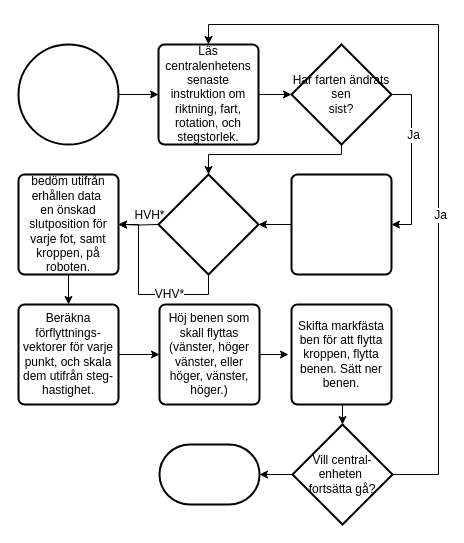
Some shapes in this 464 by 543 pixel diagram are drawn without their labels. The shapes that lost their labels are listed below. From the top down, each one's centre as x and y in pixels, then its label:
At point (68, 94): "Instrueras att gå utav centralenheten".
At point (208, 224): "Vilka fötter skall flyttas?".
At point (341, 224): "Ställ in ny fart i robotens alla servon.".
At point (209, 474): "Invänta nya instruktioner (e.g. hindergång).".
